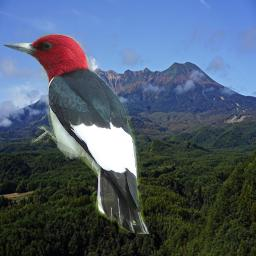Woodpecker: (0, 33, 153, 234)
